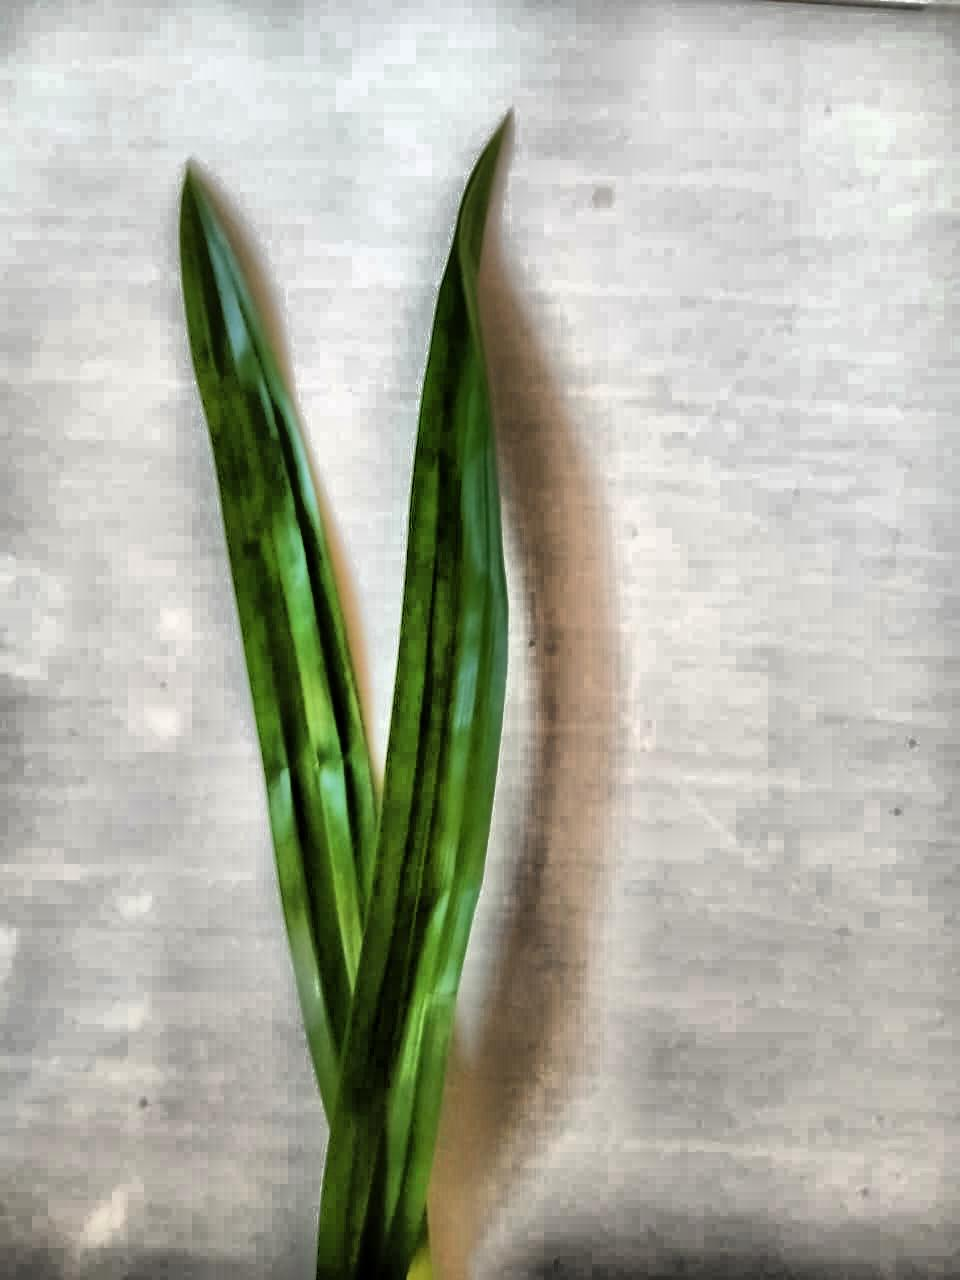daun pandan: (179, 126, 507, 1279)
